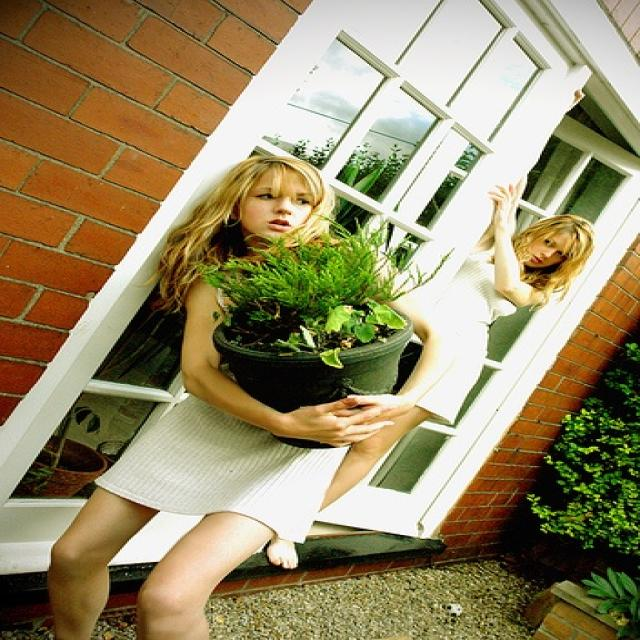pottedplant: (207, 216, 451, 448)
